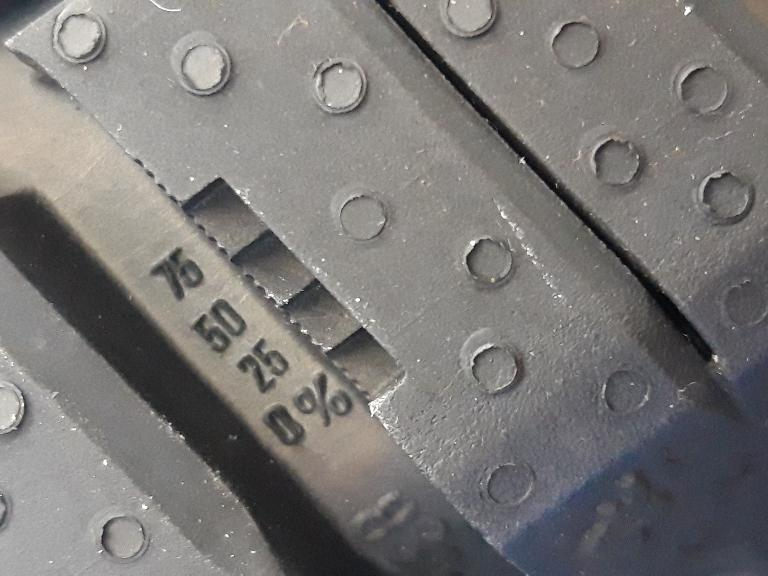temoin:100: (124, 150, 414, 420)
